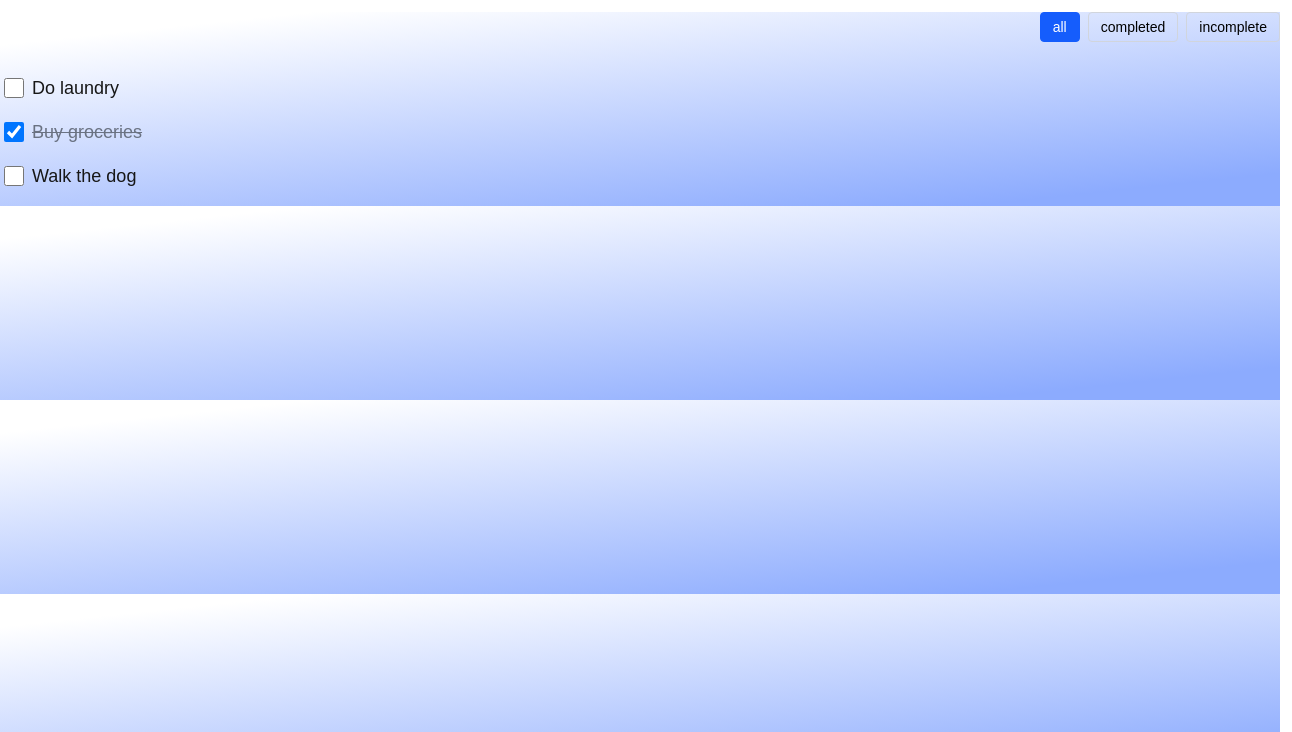
TodoList component › filters incomplete todos
The width and height of the screenshot is (1292, 732).
Click the button "incomplete" at (1233, 27), box [1186, 12, 1280, 42]
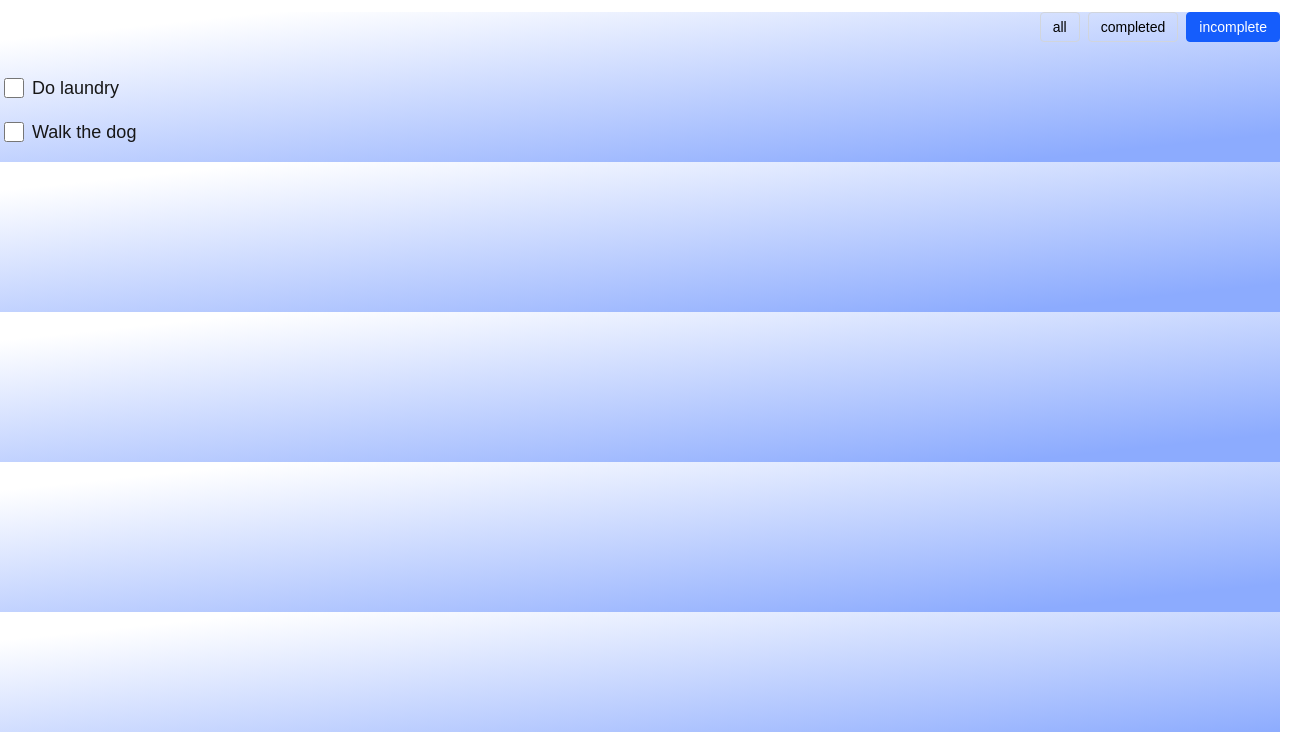
Expected: the text "Do laundry" is shown, [32, 74, 119, 102]
Result: the text "Buy groceries" is gone
